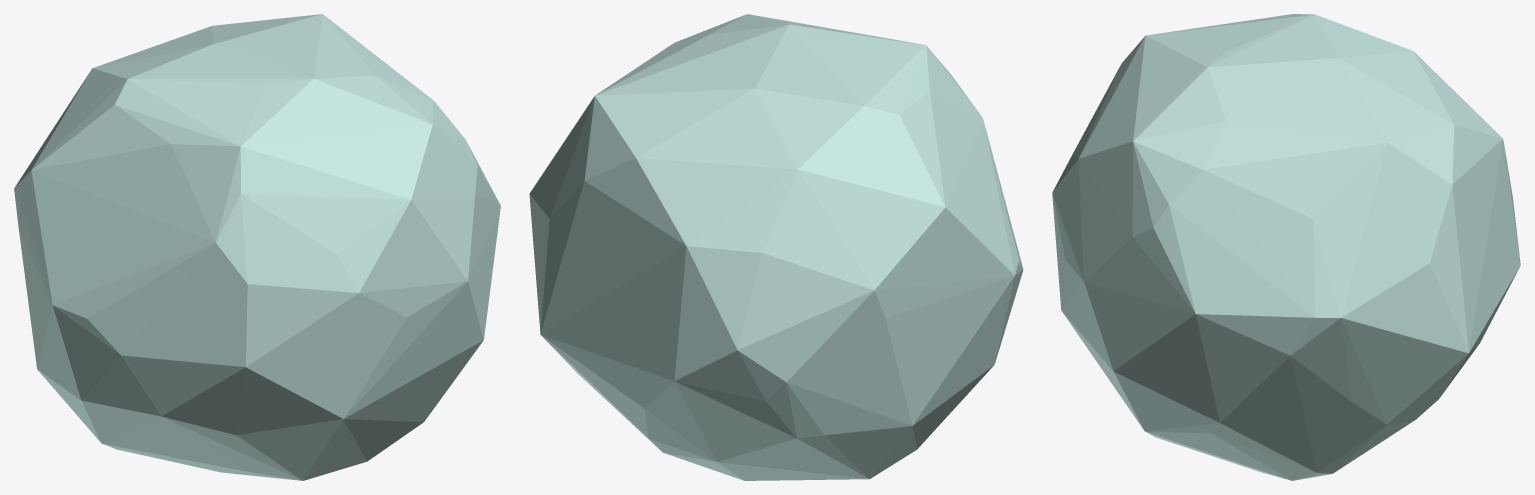
Rendered from example.gltf.
3 renders of one model, left to right at view 1: azimuth 30°, elevation 25°; view 2: azimuth 150°, elevation 25°; view 3: azimuth 270°, elevation 25°, orthographic. The views are drawn at different scales.
Visible parts, largest first — view 1: convex_hull; view 2: convex_hull; view 3: convex_hull.
Part boxes in pixels (x1=…): convex_hull: x1=14, y1=14, x2=500, y2=480; convex_hull: x1=529, y1=14, x2=1023, y2=480; convex_hull: x1=1052, y1=14, x2=1520, y2=480.
Bounding box in the file's own units: 1.95 × 1.77 × 1.88.
